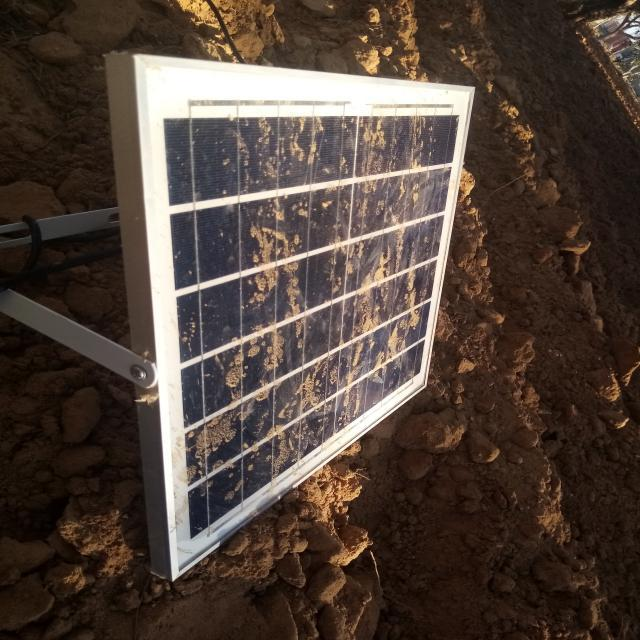faulty: (139, 60, 474, 578)
